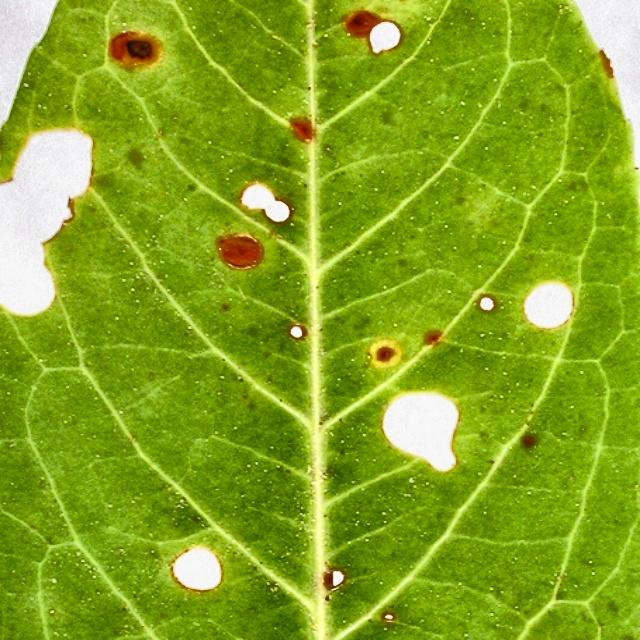shot_hole: (372, 18, 621, 493)
